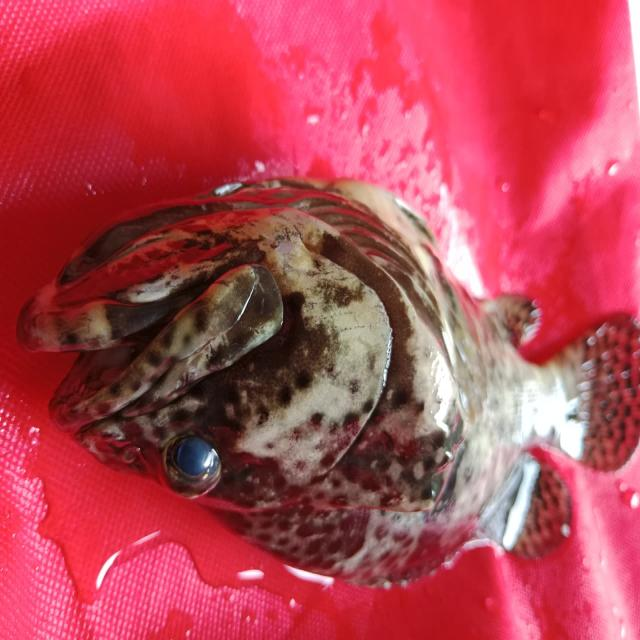ikan: (12, 127, 629, 612)
